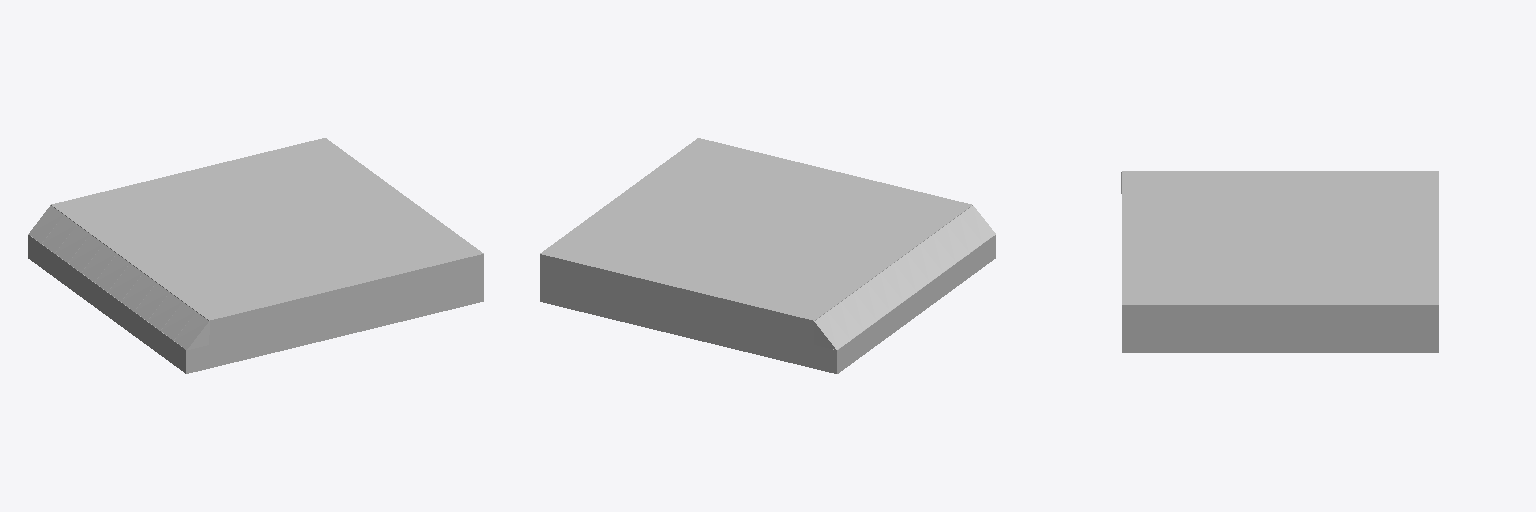
File: ptotipoaraia1.obj
3 views of the same model, side by side, from view 1: azimuth 30°, elevation 25°; view 2: azimuth 150°, elevation 25°; view 3: azimuth 270°, elevation 25° (orthographic).
Visible parts, largest first — view 1: Cube; view 2: Cube; view 3: Cube.
Boxes of the visible parts, <box> form: Cube: <box>28,138,483,373</box>; Cube: <box>540,138,995,373</box>; Cube: <box>1121,171,1438,352</box>.
Bounding box in the file's own units: 0.8127 × 0.1251 × 0.7523.